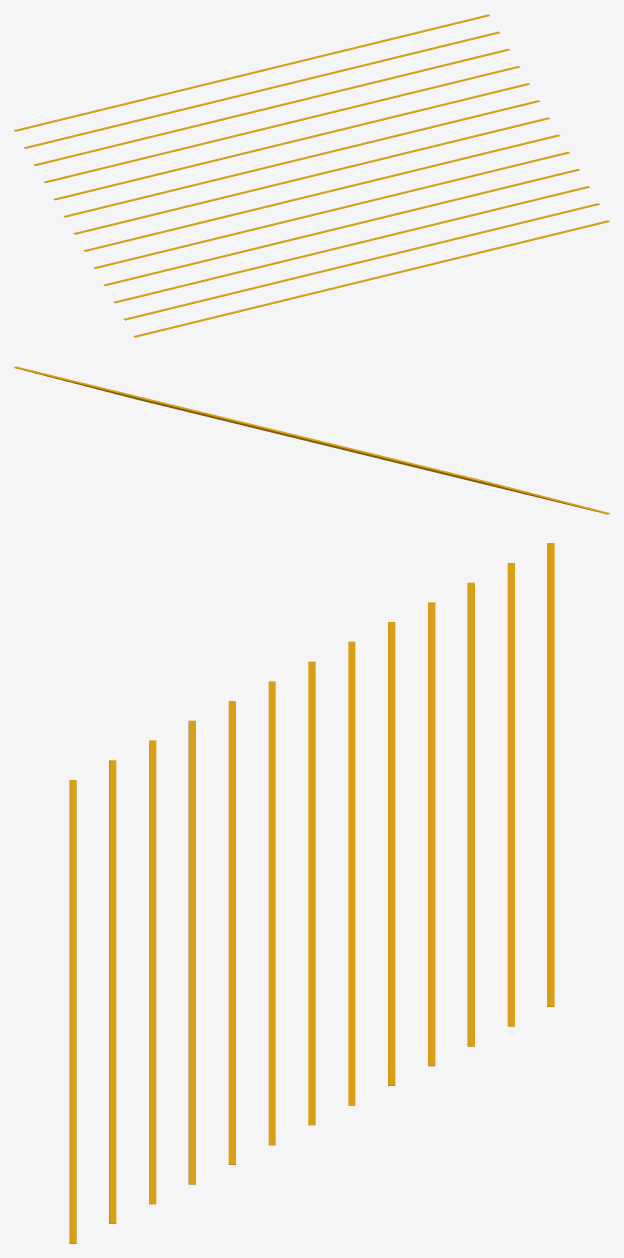
Rendered from gteki_ik_stair_n13_r165_t302_w8323_nosing.glb.
The picture shows the model from 3 angles, top to bottom: view 1: azimuth 30°, elevation 25°; view 2: azimuth 150°, elevation 25°; view 3: azimuth 270°, elevation 25°; orthographic projection. The views are drawn at different scales.
Visible parts, largest first — view 1: VIS_nosings; view 2: VIS_nosings; view 3: VIS_nosings.
Boxes of the visible parts, x1=… form: VIS_nosings: x1=14, y1=14, x2=609, y2=337; VIS_nosings: x1=14, y1=366, x2=609, y2=514; VIS_nosings: x1=69, y1=543, x2=554, y2=1243.
Size of the model in its own units: 8.31 by 1.99 by 3.68.
